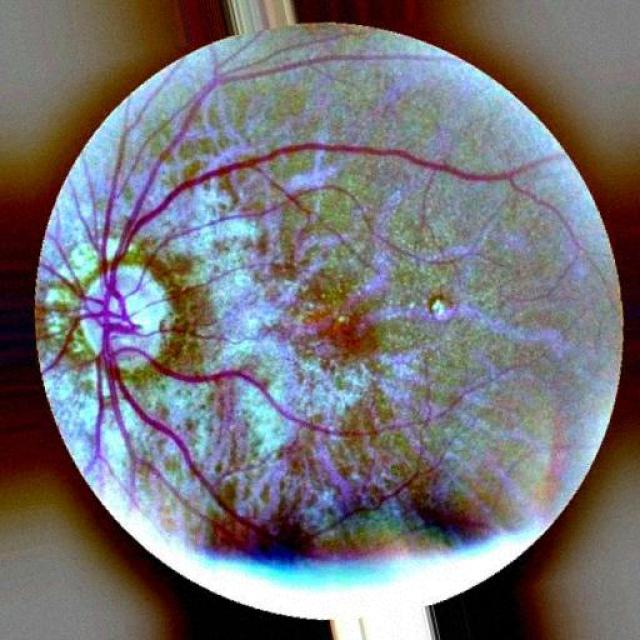Macula: (301, 289, 384, 373)
Nerves: (40, 75, 580, 552), (330, 470, 419, 525)
Optic Disk: (76, 262, 170, 366)
